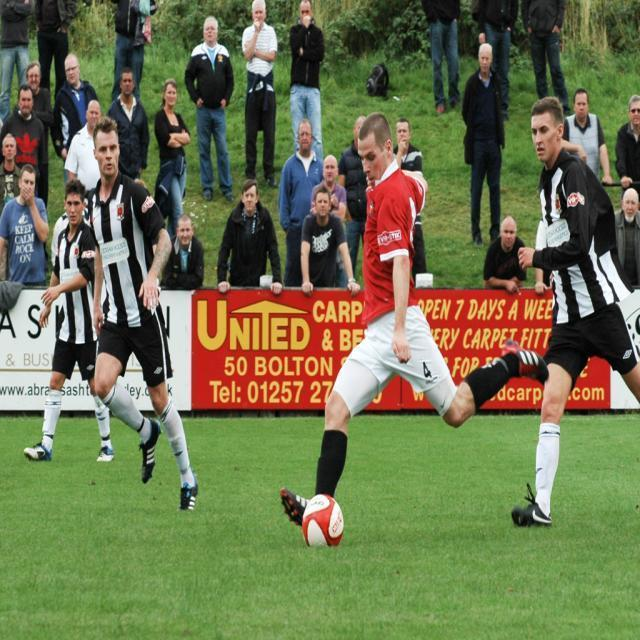ball: (299, 493, 344, 549)
